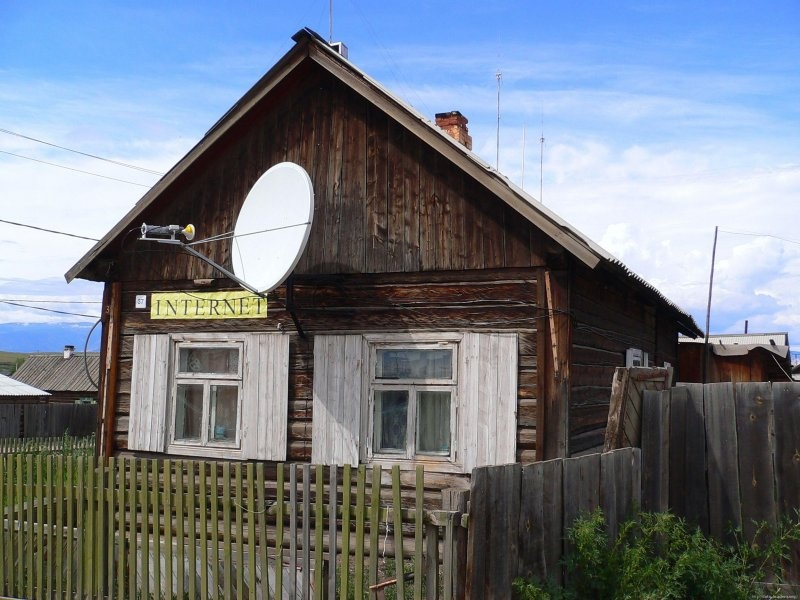window: (362, 335, 461, 465), (167, 338, 245, 452)
